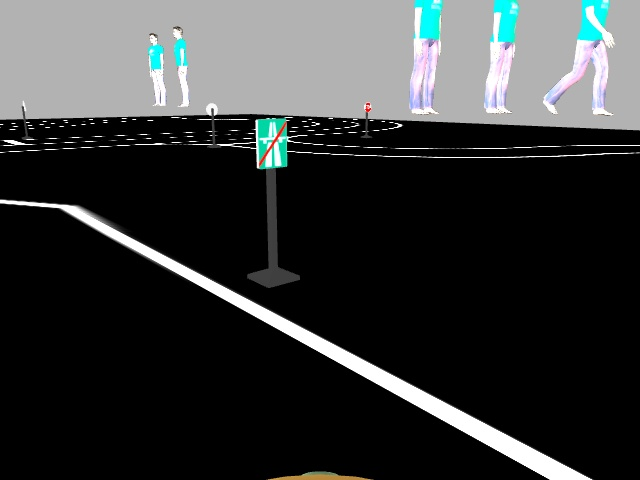HighwayExit: (254, 118, 287, 167)
